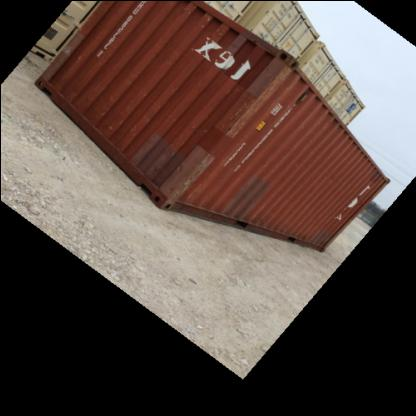Damage: (158, 141, 204, 202), (248, 53, 298, 96), (226, 92, 254, 136), (58, 39, 74, 65), (102, 115, 120, 136)
